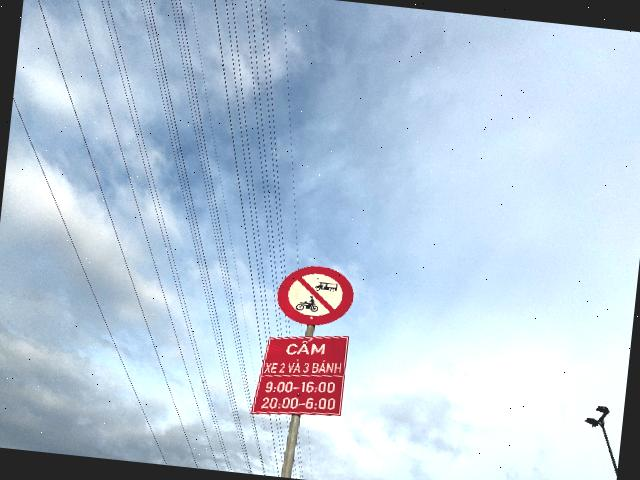cam-xe-2-banh-3-banh: (274, 261, 356, 329)
